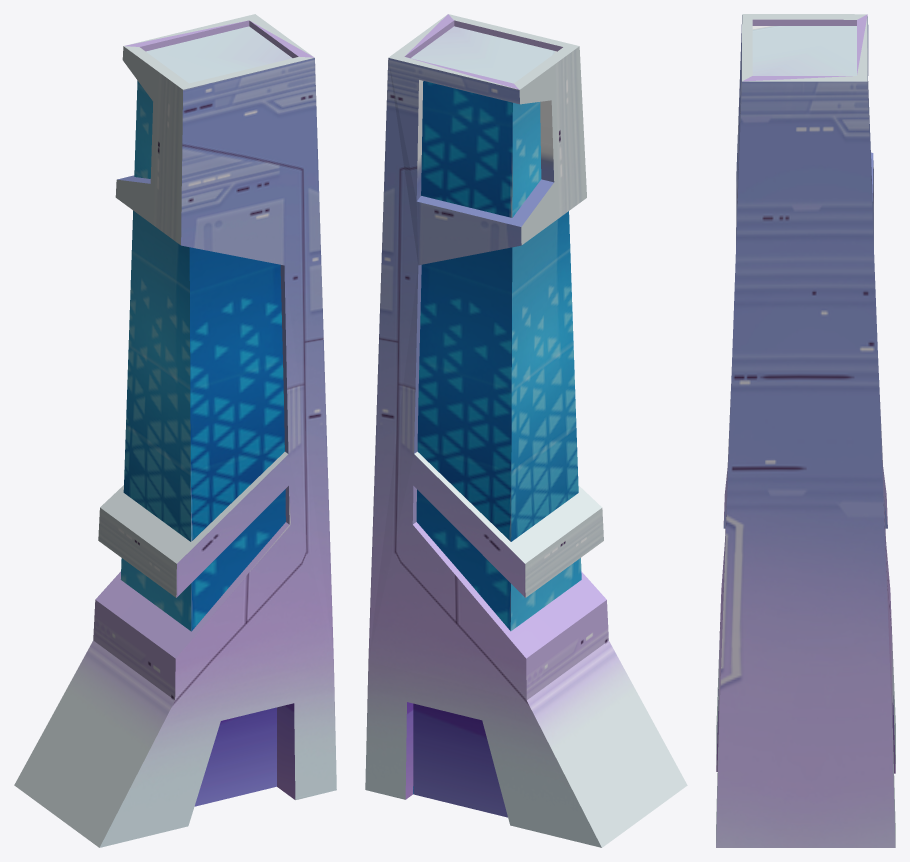
Rendered from city_tower_d.glb.
The picture shows the model from 3 angles, left to right: view 1: azimuth 30°, elevation 25°; view 2: azimuth 150°, elevation 25°; view 3: azimuth 270°, elevation 25°; orthographic projection. The views are drawn at different scales.
Visible parts, largest first — view 1: P00; view 2: P00; view 3: P00.
Boxes of the visible parts, x1=… form: P00: x1=14, y1=14, x2=336, y2=847; P00: x1=365, y1=14, x2=687, y2=847; P00: x1=716, y1=14, x2=895, y2=847.
Bounding box in the file's own units: 10.62 × 31.04 × 6.65.
Materials: 1 (1 with a texture image).
